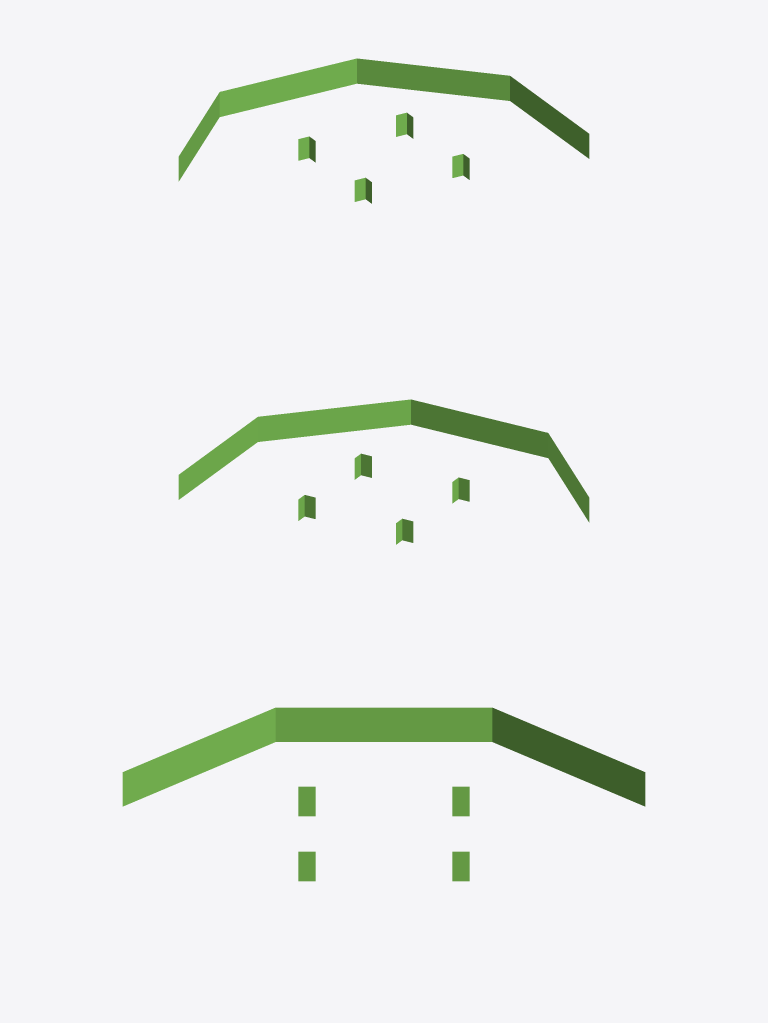
The model's file is arena.gltf.
3 views of the same model, one above another, from view 1: azimuth 30°, elevation 25°; view 2: azimuth 150°, elevation 25°; view 3: azimuth 270°, elevation 25° (orthographic). The views are drawn at different scales.
Visible parts, largest first — view 1: arena; view 2: arena; view 3: arena.
Boxes of the visible parts, box(x1,y1,x2,y2) form: arena: box(178, 58, 589, 203); arena: box(178, 399, 589, 544); arena: box(122, 707, 645, 881).
Bounding box in the file's own units: 68 × 3.5 × 68.
